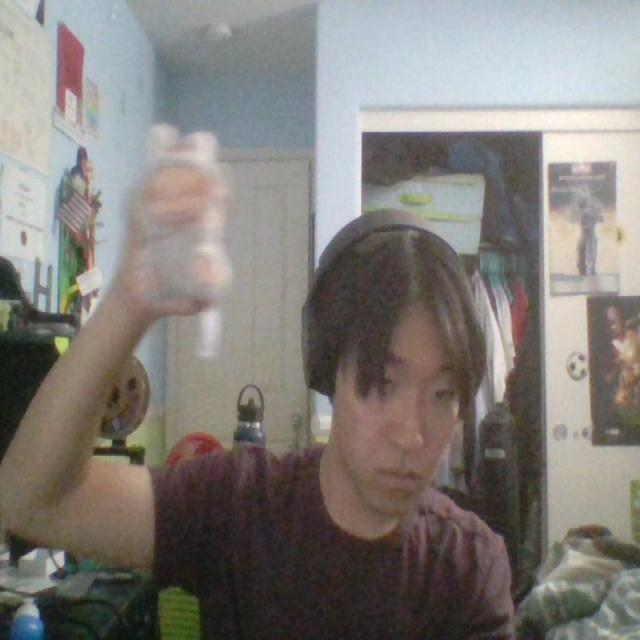labubu: (116, 127, 231, 313)
